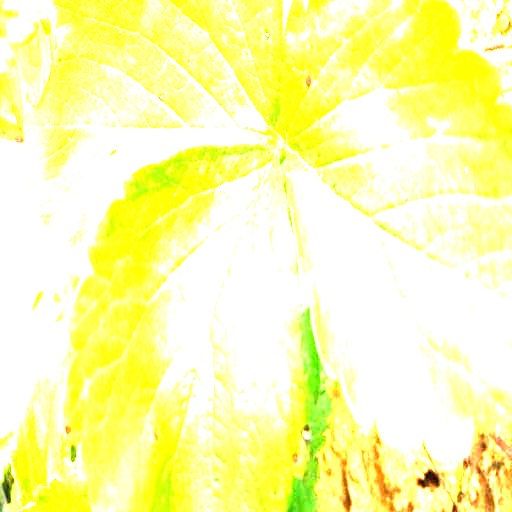Leaf Spot: (279, 0, 511, 464), (62, 142, 320, 511), (20, 0, 287, 280)
